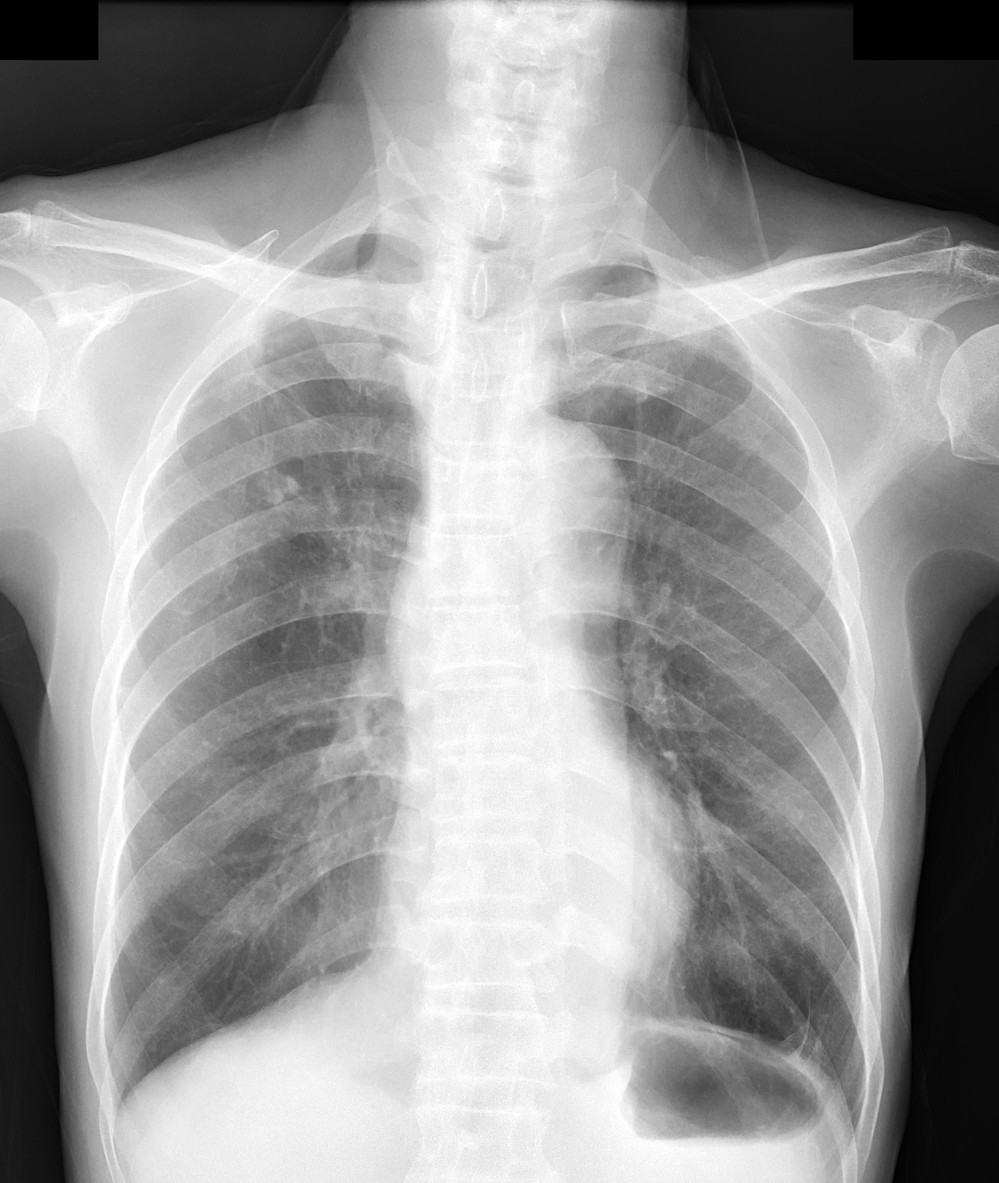Aortic enlargement: (465, 423, 636, 584)
Pulmonary fibrosis: (231, 392, 387, 580), (787, 988, 834, 1066)
